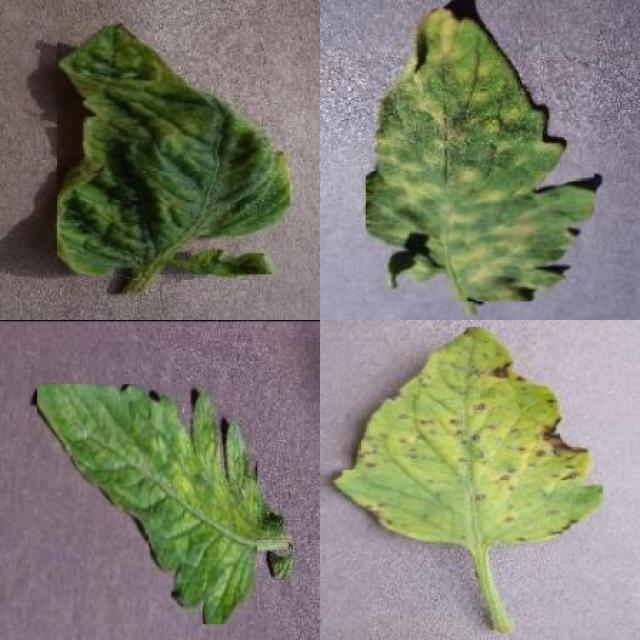Leaf Mold: (365, 8, 595, 302)
Mosaic Virus: (37, 385, 257, 625)
Septoria: (330, 328, 603, 545)
Yellow Leaf Curl Virus: (57, 25, 290, 275)
